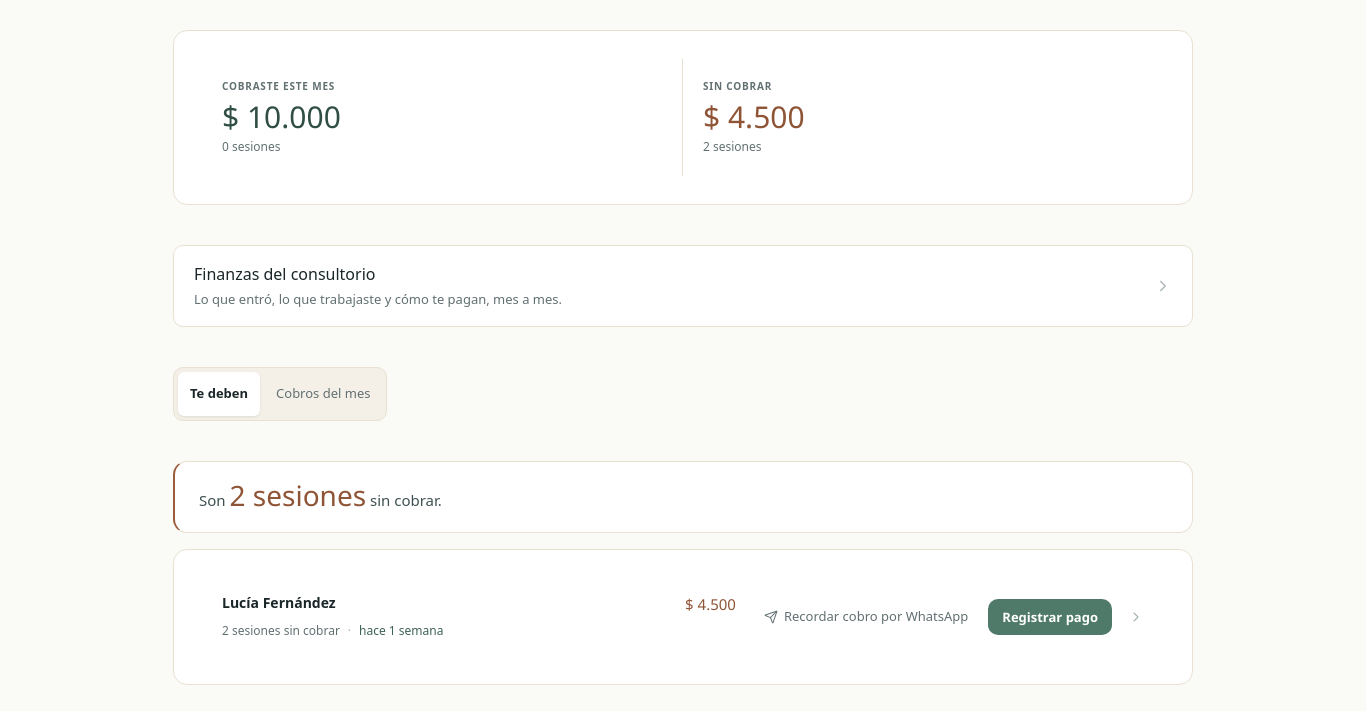
Te deben: registrar pago › si vuelve con una sola cobrada, lo dice y la deuda se recalcula
(page scrolled)
Click the button "Registrar pago": (1050, 617) [988,599,1112,635]
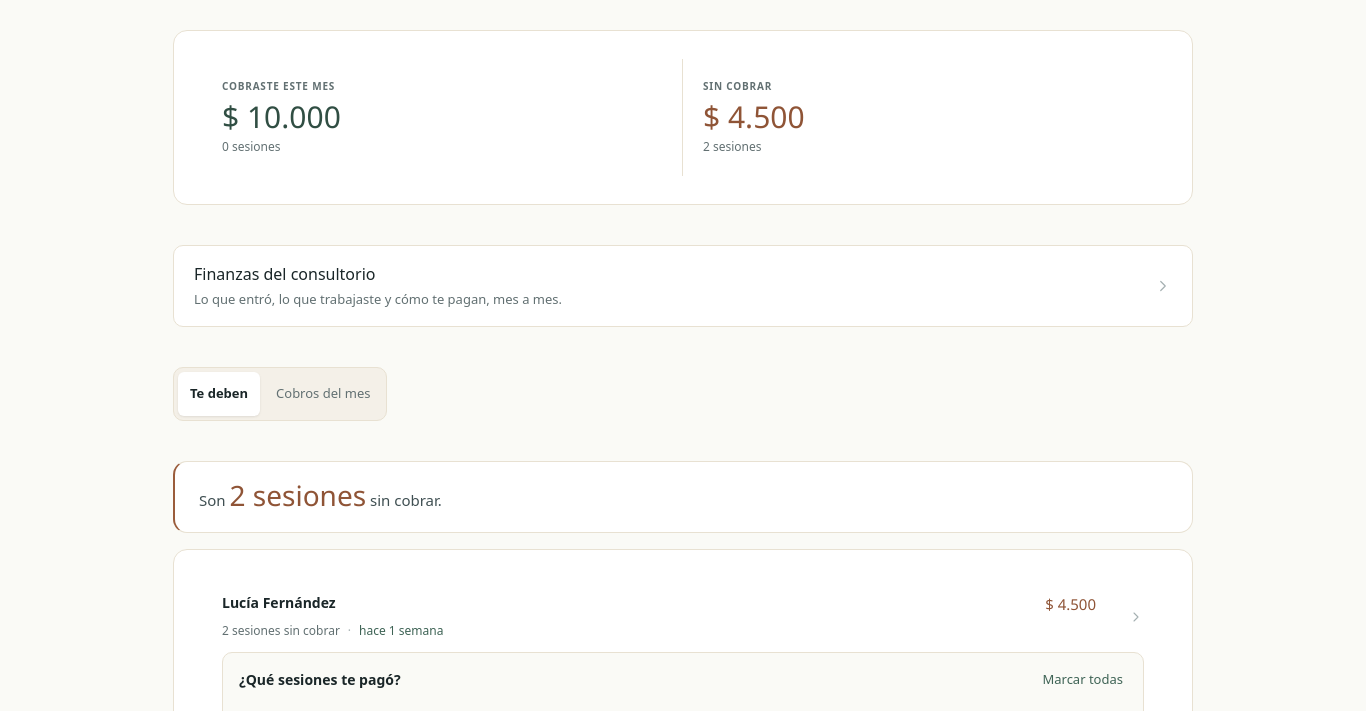
Click the button "Marcar todas": (1083, 680) [1038,670,1127,690]
(page scrolled)
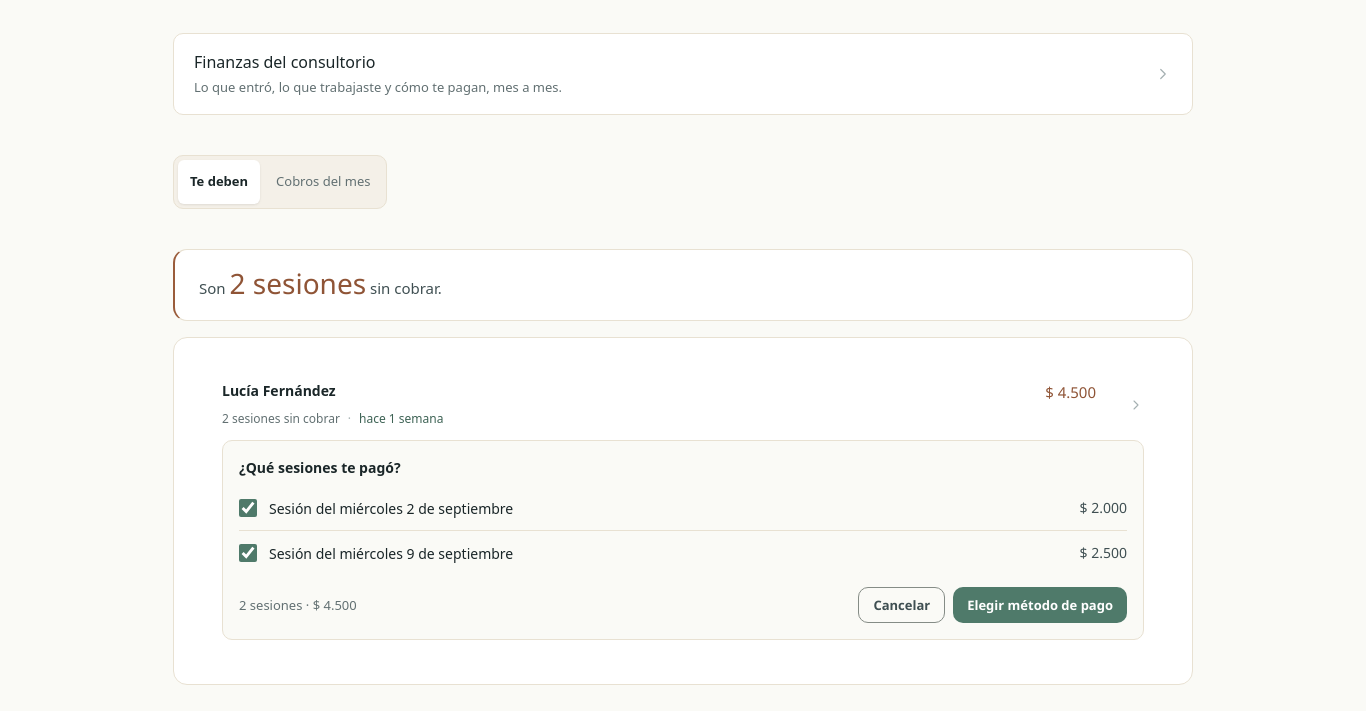
Click the button "Elegir método de pago": (1040, 605) [953,587,1127,623]
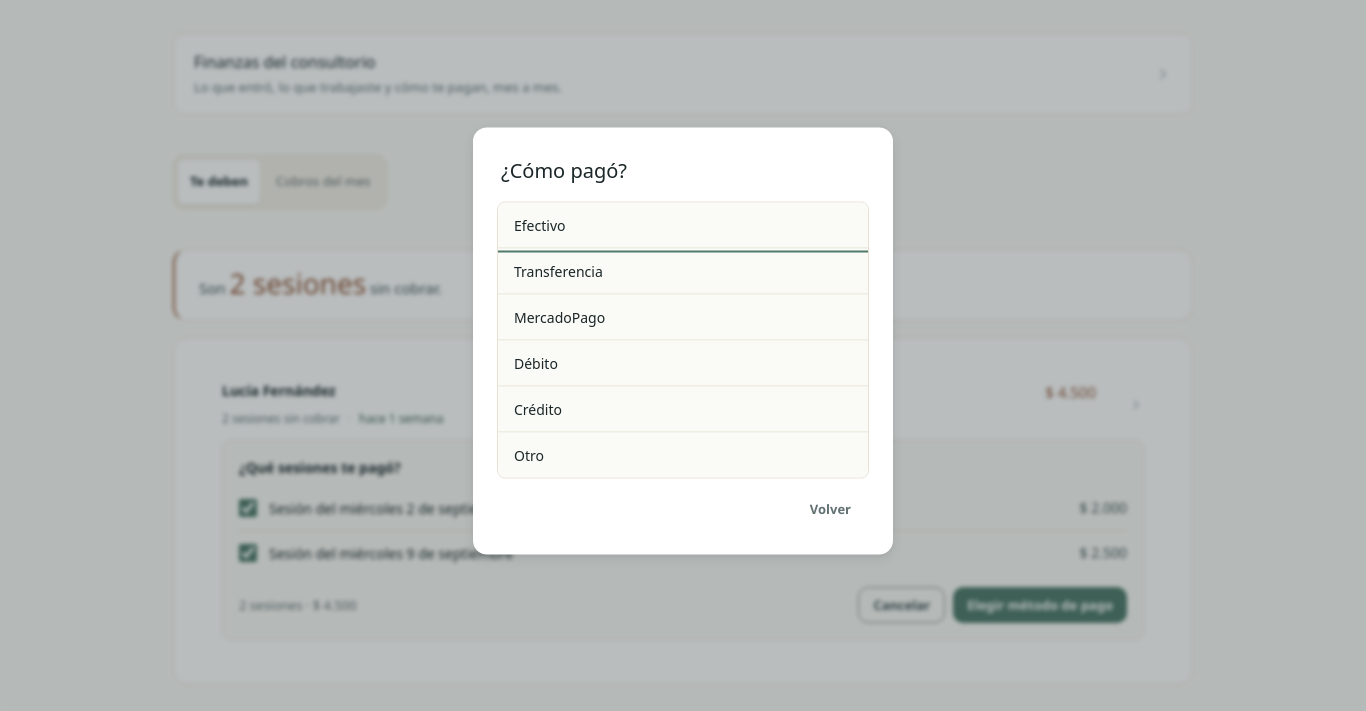
Click the button "Efectivo": (540, 225) [498,202,868,248]
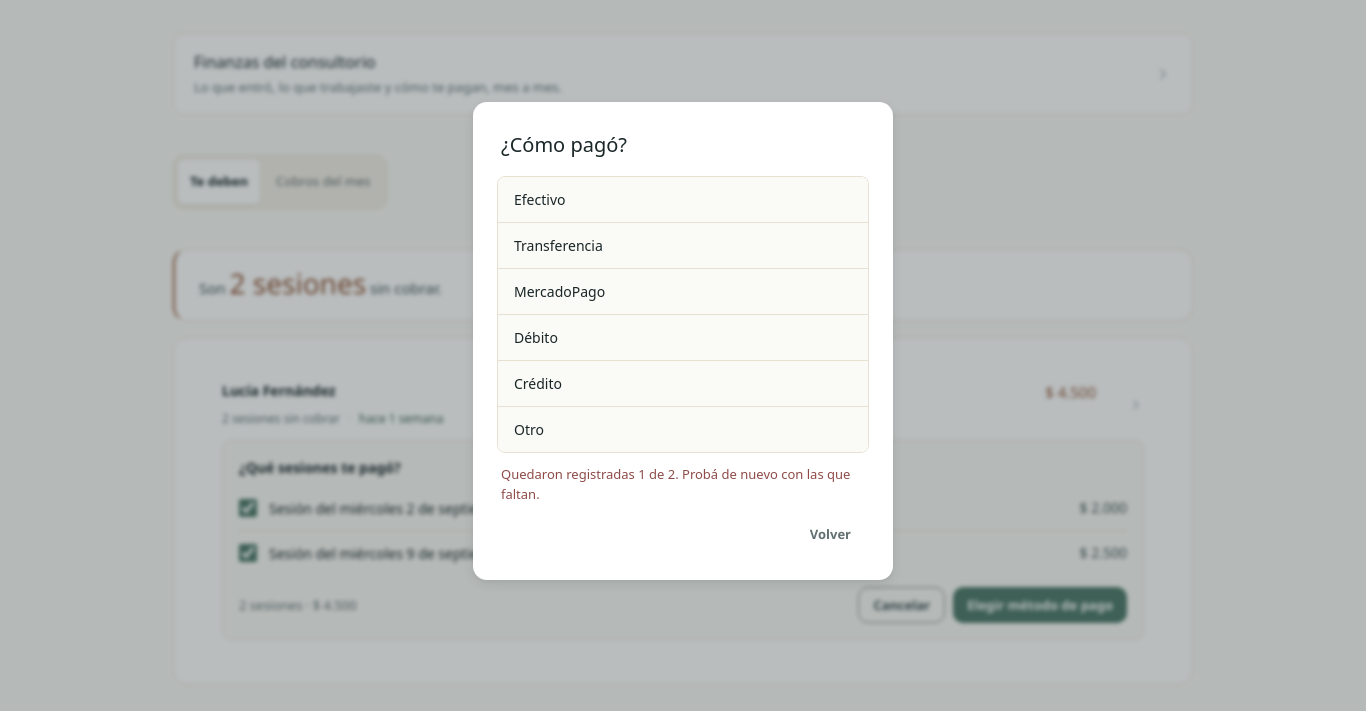
Check: the message "Quedaron registradas 1 de 2. Probá de nuevo con las que faltan." is shown, box [501,465,865,504]
Click the button "Volver": (830, 534) [796,516,865,552]
(page scrolled)
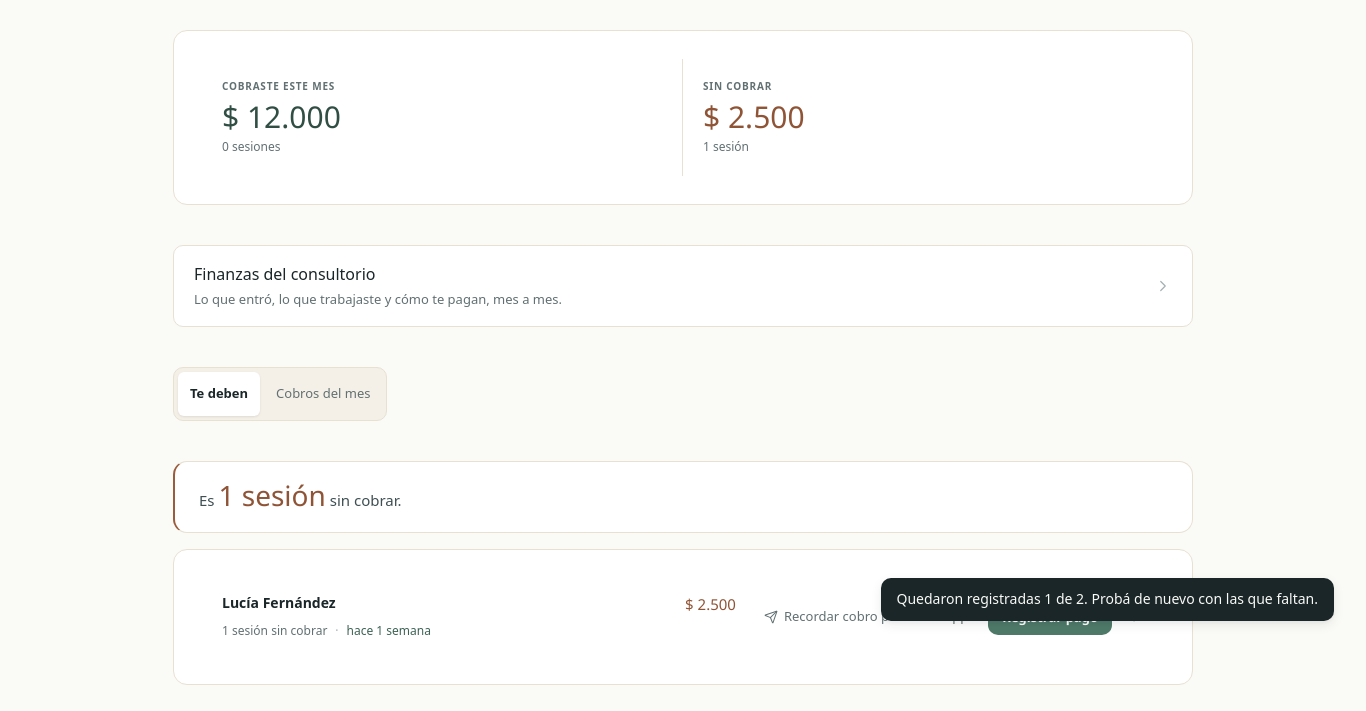
Check: the text "Es 1 sesión sin cobrar." is shown, box [199,477,402,515]
